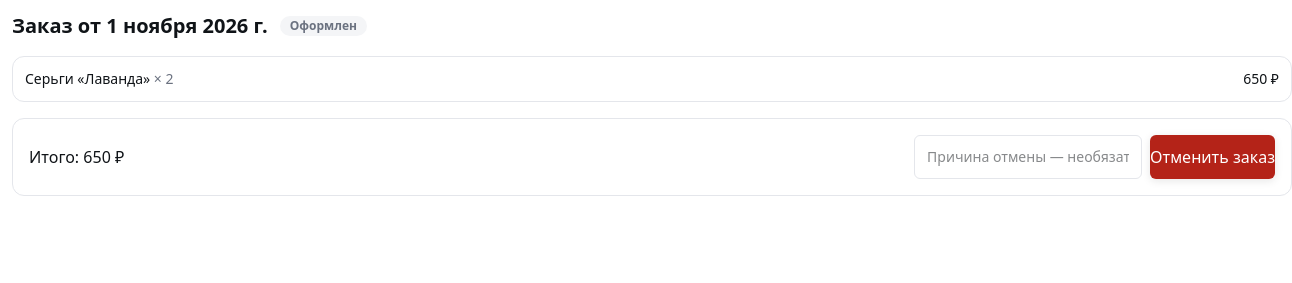
Test: OrderDetailPage › ошибку отмены показывает алертом с текстом ApiError
This screenshot has width=1292, height=283.
What coordinates should you click on to do the following:
click the button "Отменить заказ"
I would click on:
 (1213, 157)
Its box is [1150, 135, 1275, 179].
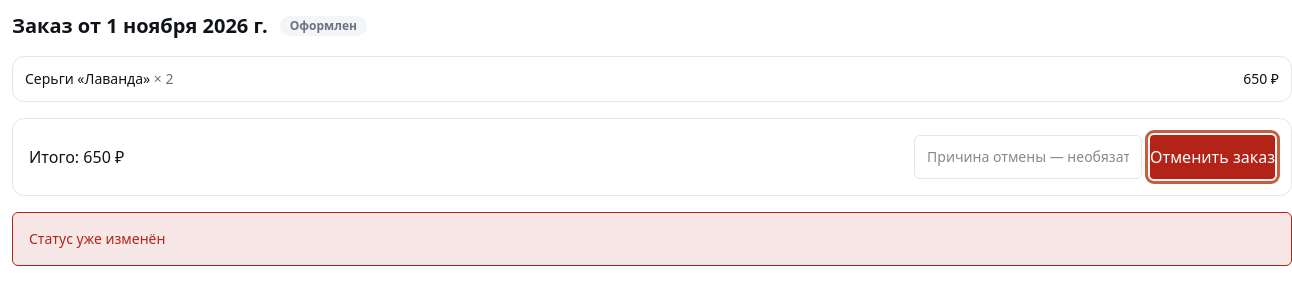
Result: the text "Статус уже изменён" is shown at [12, 212, 1291, 266]
